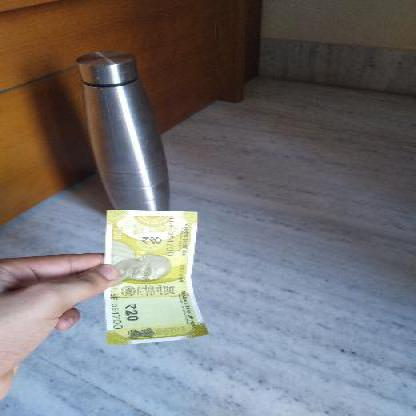New20Front: (105, 210, 200, 337)
